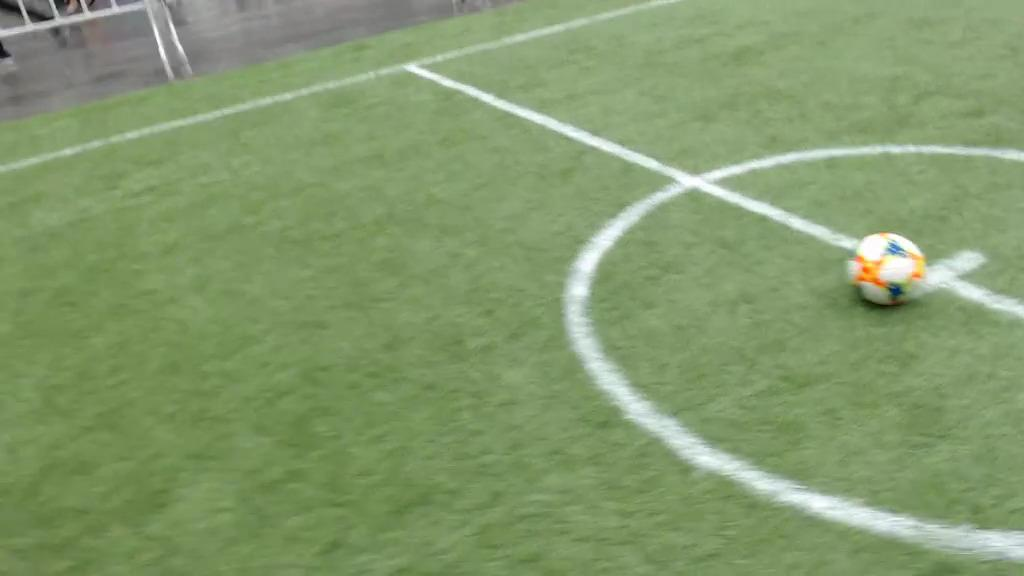ball: (850, 231, 924, 307)
